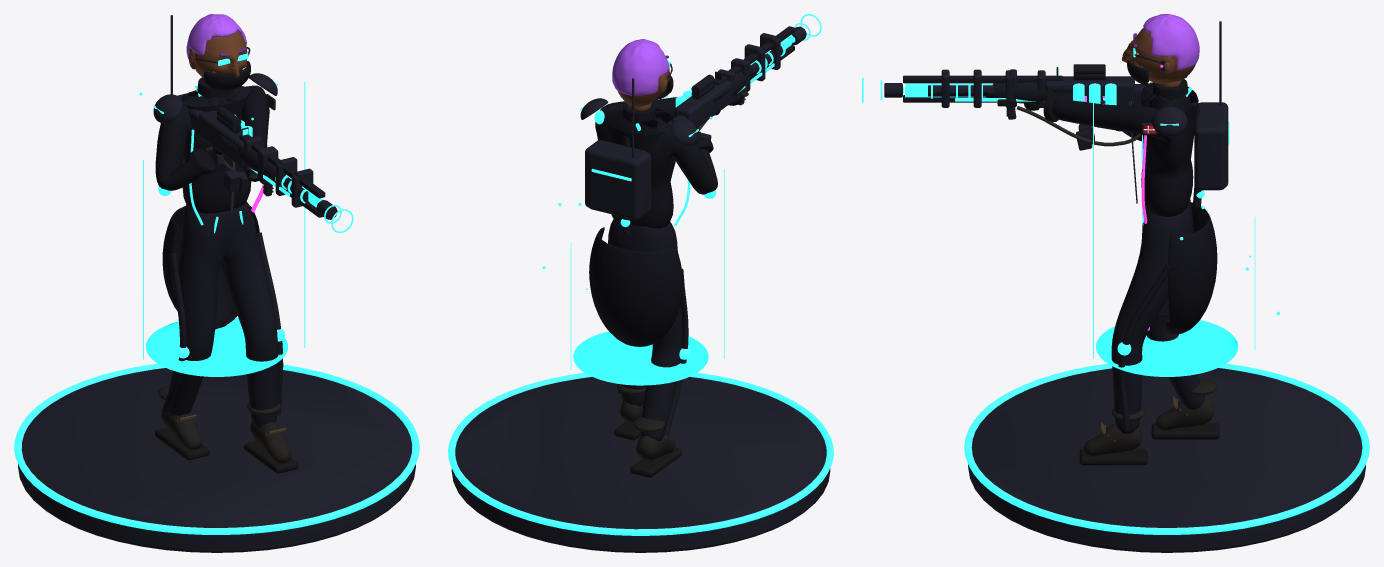
Rendered from skinne_neon.glb.
The picture shows the model from 3 angles, left to right: view 1: azimuth 30°, elevation 25°; view 2: azimuth 150°, elevation 25°; view 3: azimuth 270°, elevation 25°; orthographic projection. The views are drawn at different scales.
Visible parts, largest first — view 1: fod_net, menneske_net, op4.002_net, hoved_net, vaaben_net, op4_net, op1_net, op3.001_net, op4.001_net, ned1_net, op3_net; view 2: fod_net, menneske_net, op4_net, op4.002_net, hoved_net, vaaben_net, op3.001_net, op1_net, ned1_net, ned4.001_net, op4.001_net; view 3: fod_net, menneske_net, op4.002_net, vaaben_net, hoved_net, op4_net, ned4.001_net, ned1_net, op1_net, op3.001_net, op3_net.
Boxes of the visible parts, box(x1,y1,x2,y2) form: fod_net: box(14, 363, 419, 552); menneske_net: box(155, 77, 298, 473); op4.002_net: box(139, 82, 305, 376); hoved_net: box(186, 14, 250, 91); vaaben_net: box(188, 109, 325, 217); op4_net: box(158, 93, 285, 415); op1_net: box(216, 107, 322, 207); op3.001_net: box(153, 15, 277, 123); op4.001_net: box(195, 85, 353, 232); ned1_net: box(216, 115, 316, 207); op3_net: box(271, 169, 337, 219); fod_net: box(448, 373, 833, 552); menneske_net: box(589, 90, 748, 477); op4_net: box(587, 110, 716, 435); op4.002_net: box(542, 95, 724, 385); hoved_net: box(612, 39, 673, 107); vaaben_net: box(667, 26, 794, 140); op3.001_net: box(580, 78, 698, 158); op1_net: box(691, 34, 792, 131); ned1_net: box(691, 33, 790, 99); ned4.001_net: box(585, 140, 646, 207); op4.001_net: box(635, 14, 821, 140); fod_net: box(964, 363, 1369, 552); menneske_net: box(1024, 79, 1219, 465); op4.002_net: box(1093, 92, 1280, 376); vaaben_net: box(903, 70, 1173, 107); hoved_net: box(1122, 14, 1199, 85); op4_net: box(1117, 102, 1229, 430); ned4.001_net: box(1194, 104, 1226, 190); ned1_net: box(905, 69, 1105, 107); op1_net: box(905, 64, 1142, 146); op3.001_net: box(1152, 21, 1221, 136); op3_net: box(884, 83, 993, 97).
Size of the model in its own units: 1.94 by 2.39 by 2.42.
